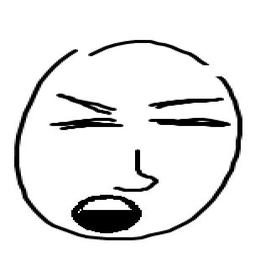closed_eye: (48, 117, 129, 136), (149, 116, 235, 132)
eyebrow: (150, 93, 225, 113)
frowning_eyebrow: (54, 92, 116, 115)
nose: (113, 147, 162, 193)
open_mouth: (65, 192, 144, 234)
